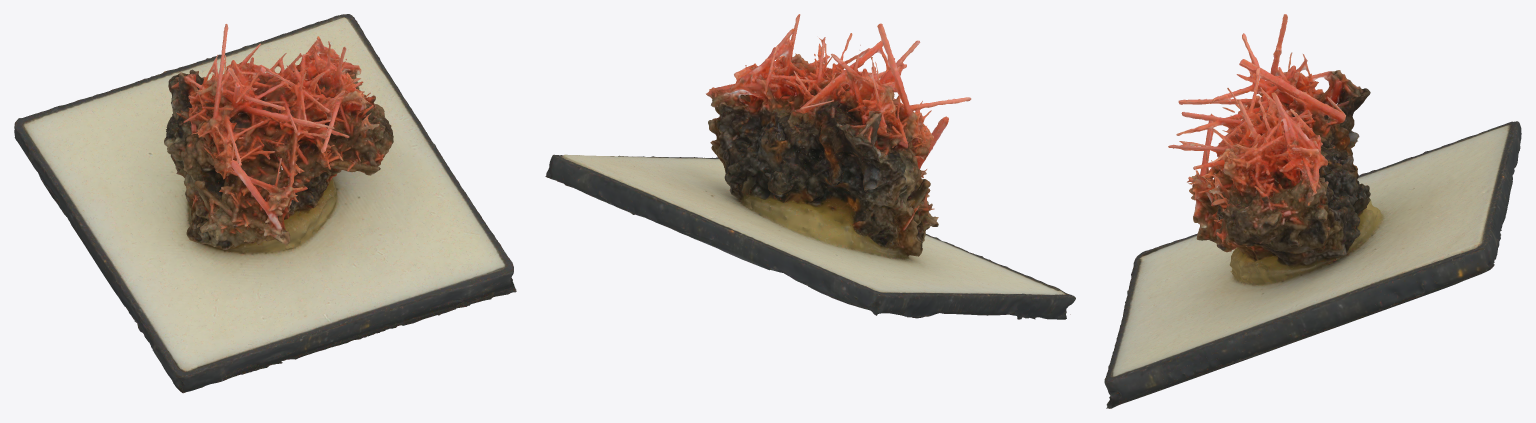
File: crocoite.glb
The picture shows the model from 3 angles, left to right: view 1: azimuth 30°, elevation 25°; view 2: azimuth 150°, elevation 25°; view 3: azimuth 270°, elevation 25°; orthographic projection. The views are drawn at different scales.
Visible parts, largest first — view 1: Object_4; view 2: Object_4; view 3: Object_4.
Part boxes in pixels (x1,y1,x2,y2): Object_4: (14,14,516,393); Object_4: (545,14,1075,319); Object_4: (1104,14,1521,408).
Size of the model in its own units: 2.7 by 2.75 by 2.65.
1 material, 1 textured.
